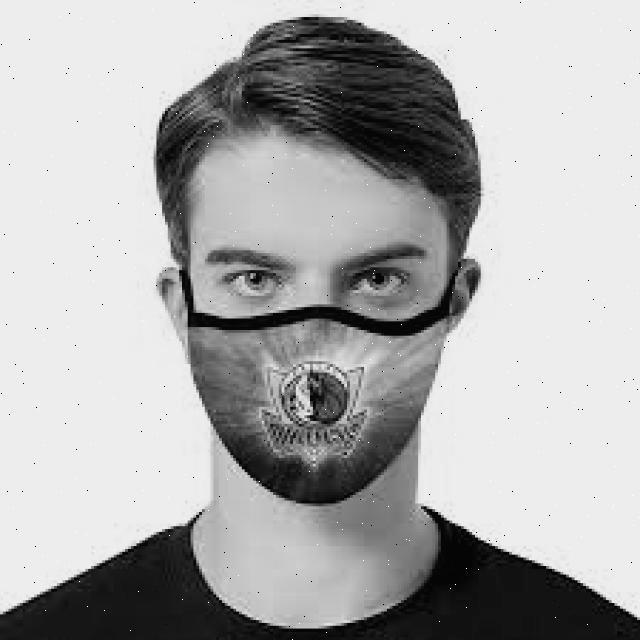fake: (176, 306, 457, 510)
real: (189, 144, 445, 515)
